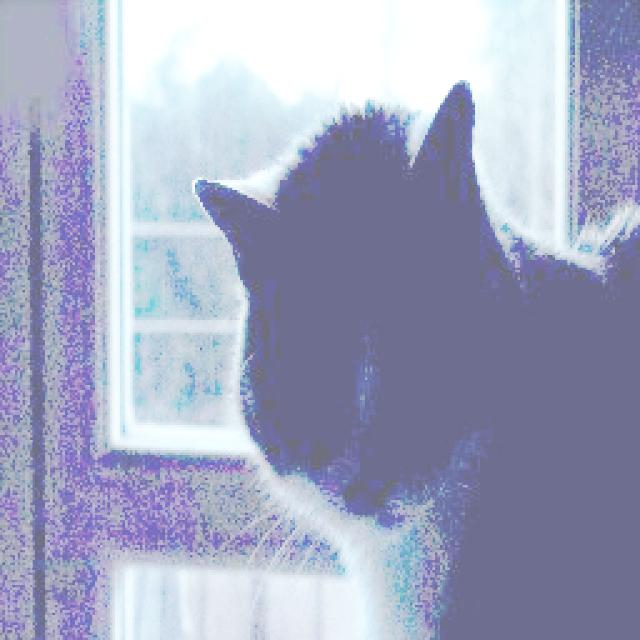cat: (188, 75, 640, 611)
